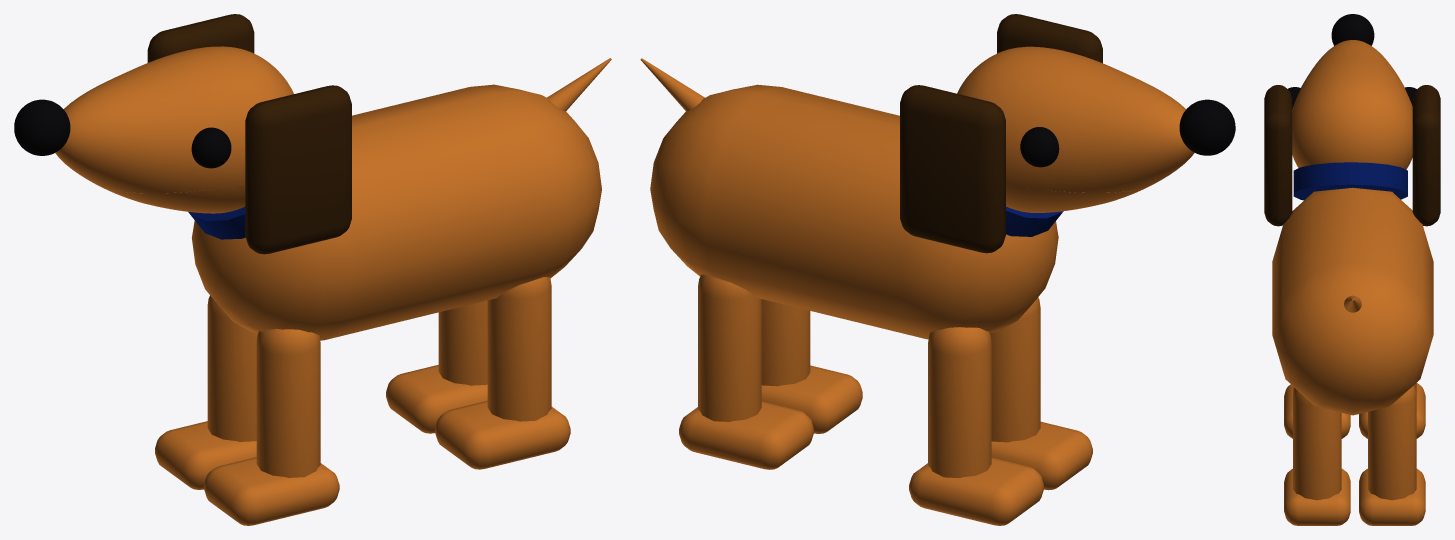
File: dog3.dae
3 renders of one model, left to right at view 1: azimuth 30°, elevation 25°; view 2: azimuth 150°, elevation 25°; view 3: azimuth 270°, elevation 25°, orthographic. The views are drawn at different scales.
Parts seen in each view (by area): view 1: Capsule010, Sphere010, ChamferBox007, Capsule011, Capsule014, Capsule013, ChamferBox008, ChamferBox013, ChamferBox014, ChamferBox010, Capsule015, ChamferBox012 (+5 smaller); view 2: Capsule010, Sphere010, ChamferBox012, Capsule013, Capsule015, Capsule011, ChamferBox014, ChamferBox010, Capsule014, ChamferBox013, ChamferBox008, ChamferBox007 (+5 smaller); view 3: Capsule010, Sphere010, Capsule015, Capsule014, ChamferBox007, ChamferBox012, Cylinder001, ChamferBox013, ChamferBox014, Sphere012, ChamferBox010, ChamferBox008 (+1 smaller).
Boxes of the visible parts, x1,y1,x2,y2 form: Capsule010: (192, 84, 601, 340); Sphere010: (55, 46, 293, 193); ChamferBox007: (245, 85, 351, 254); Capsule011: (256, 329, 320, 477); Capsule014: (487, 277, 551, 421); Capsule013: (207, 295, 257, 441); ChamferBox008: (204, 457, 339, 525); ChamferBox013: (435, 400, 570, 469); ChamferBox014: (386, 365, 487, 433); ChamferBox010: (155, 421, 256, 489); Capsule015: (438, 300, 487, 385); ChamferBox012: (147, 14, 254, 62); Capsule010: (650, 84, 1058, 339); Sphere010: (957, 46, 1194, 192); ChamferBox012: (900, 85, 1005, 253); Capsule013: (928, 327, 991, 477); Capsule015: (698, 274, 761, 421); Capsule011: (989, 297, 1040, 442); ChamferBox014: (679, 401, 813, 469); ChamferBox010: (909, 457, 1043, 525); Capsule014: (761, 299, 810, 386); ChamferBox013: (761, 365, 862, 433); ChamferBox008: (991, 421, 1092, 490); ChamferBox007: (997, 14, 1102, 63); Capsule010: (1272, 187, 1433, 415); Sphere010: (1292, 40, 1412, 167); Capsule015: (1368, 385, 1416, 500); Capsule014: (1293, 388, 1341, 500); ChamferBox007: (1264, 85, 1292, 226); ChamferBox012: (1412, 85, 1440, 226); Cylinder001: (1293, 162, 1407, 200); ChamferBox013: (1284, 469, 1350, 525); ChamferBox014: (1359, 468, 1425, 525); Sphere012: (1331, 14, 1374, 45); ChamferBox010: (1359, 383, 1425, 438); ChamferBox008: (1284, 384, 1350, 438).
Size of the model in its own units: 46.13 by 33 by 15.62.
